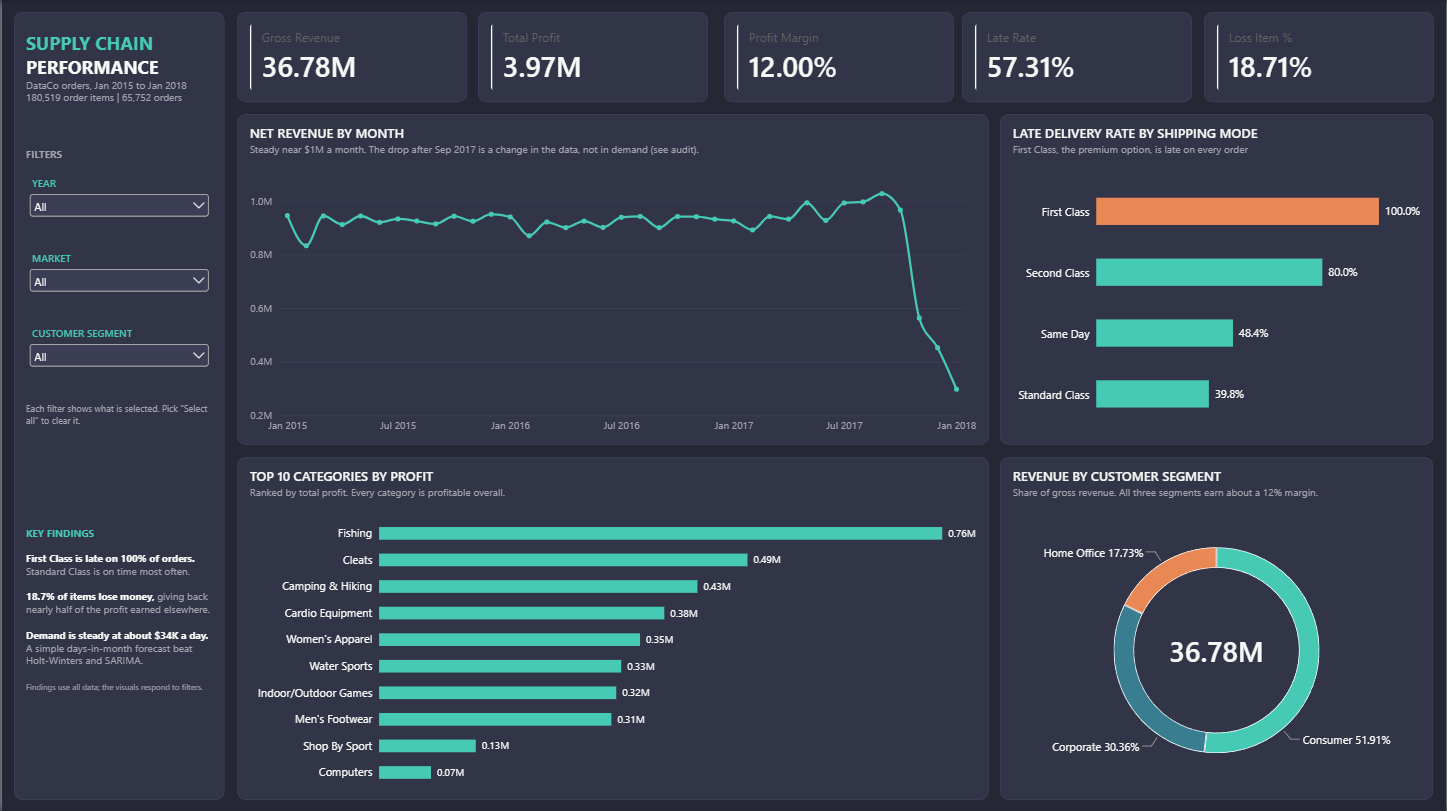

What the dashboard file says about the page in this screenshot:
{"tool":"powerbi","page":{"name":"Overview","canvas":[1920,1080],"ordinal":0},"visuals":[{"type":"textbox","box":[16,16,280,1048],"z":1},{"type":"textbox","box":[32,40,248,150],"z":10},{"type":"textbox","box":[32,196,248,30],"z":11},{"type":"textbox","box":[32,534,248,60],"z":12},{"type":"textbox","box":[32,700,248,360],"z":13},{"type":"cardVisual","fields":{"Data":["order_items.Gross Revenue"]},"box":[312,16,305.6,120],"z":20},{"type":"cardVisual","fields":{"Data":["order_items.Total Profit"]},"box":[633.6,16,305.6,120],"z":21},{"type":"cardVisual","fields":{"Data":["order_items.Profit Margin"]},"box":[960.3,16,305.6,120],"z":22},{"type":"cardVisual","fields":{"Data":["orders.Late Rate"]},"box":[1276.8,16,305.6,120],"z":23},{"type":"cardVisual","fields":{"Data":["order_items.Loss Item %"]},"box":[1598.4,16,305.6,120],"z":24},{"type":"lineChart","title":"NET REVENUE BY MONTH","fields":{"Category":["Calendar.Month"],"Y":["order_items.Net Revenue"]},"box":[312,152,1000,440],"z":30},{"type":"barChart","title":"LATE DELIVERY RATE BY SHIPPING MODE","fields":{"Category":["orders.Shipping_Mode"],"Y":["orders.Late Rate"]},"box":[1328,152,576,440],"z":31},{"type":"barChart","title":"TOP 10 CATEGORIES BY PROFIT","fields":{"Category":["categories.Category_Name"],"Y":["order_items.Total Profit"]},"box":[312,608,1000,456],"z":32},{"type":"donutChart","title":"REVENUE BY CUSTOMER SEGMENT","fields":{"Category":["customers.Customer_Segment"],"Y":["order_items.Gross Revenue"]},"box":[1328,608,576,456],"z":33},{"type":"slicer","fields":{"Values":["Calendar.Year"]},"box":[32,230,248,92],"z":40},{"type":"slicer","fields":{"Values":["orders.Market"]},"box":[32,330,248,92],"z":41},{"type":"slicer","fields":{"Values":["customers.Customer_Segment"]},"box":[32,430,248,92],"z":42}]}

Visuals, with their boxes in screenshot pixels (x1, y1, x2, y2), scaled from the page's 1920x1080 canvas onto the 1447x811 screenshot:
textbox: x1=12 y1=12 x2=223 y2=799
textbox: x1=24 y1=30 x2=211 y2=143
textbox: x1=24 y1=147 x2=211 y2=170
textbox: x1=24 y1=401 x2=211 y2=446
textbox: x1=24 y1=526 x2=211 y2=796
cardVisual - order_items.Gross Revenue: x1=235 y1=12 x2=465 y2=102
cardVisual - order_items.Total Profit: x1=478 y1=12 x2=708 y2=102
cardVisual - order_items.Profit Margin: x1=724 y1=12 x2=954 y2=102
cardVisual - orders.Late Rate: x1=962 y1=12 x2=1193 y2=102
cardVisual - order_items.Loss Item %: x1=1205 y1=12 x2=1435 y2=102
"NET REVENUE BY MONTH" lineChart: x1=235 y1=114 x2=989 y2=445
"LATE DELIVERY RATE BY SHIPPING MODE" barChart: x1=1001 y1=114 x2=1435 y2=445
"TOP 10 CATEGORIES BY PROFIT" barChart: x1=235 y1=457 x2=989 y2=799
"REVENUE BY CUSTOMER SEGMENT" donutChart: x1=1001 y1=457 x2=1435 y2=799
slicer - Calendar.Year: x1=24 y1=173 x2=211 y2=242
slicer - orders.Market: x1=24 y1=248 x2=211 y2=317
slicer - customers.Customer_Segment: x1=24 y1=323 x2=211 y2=392
